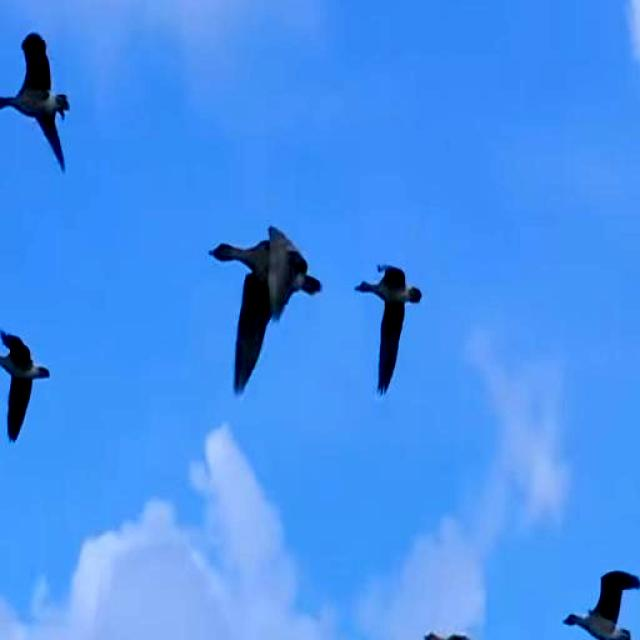airplane: (209, 218, 324, 404), (0, 21, 81, 176), (350, 246, 426, 389), (0, 315, 60, 455), (556, 558, 640, 640)
